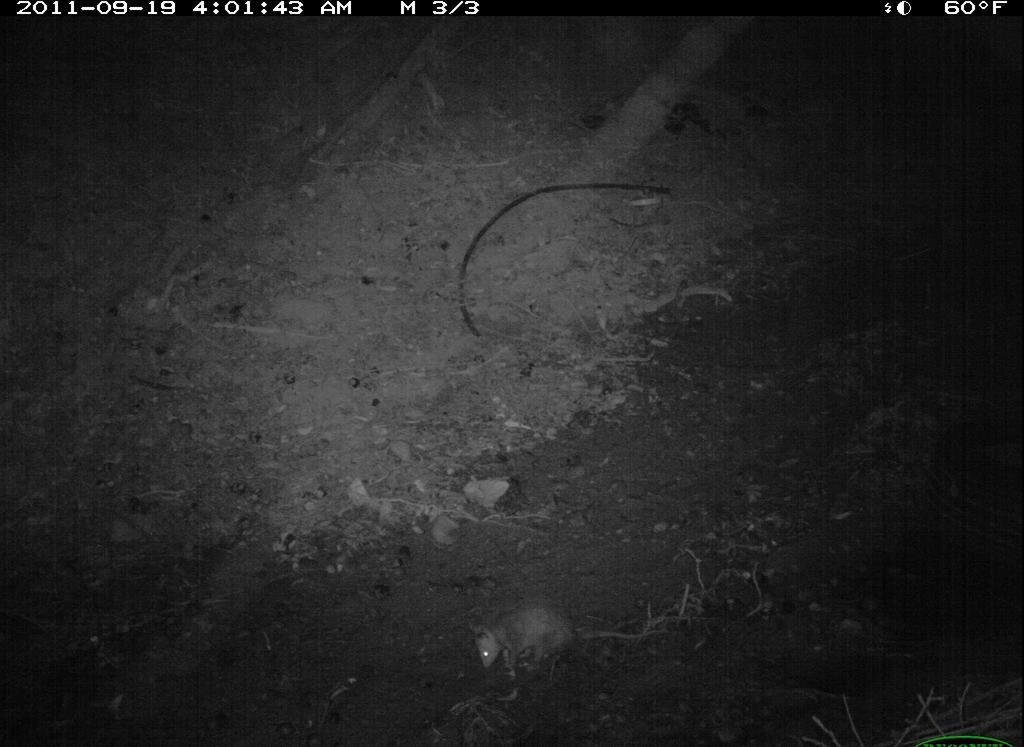opossum: (461, 593, 670, 683)
